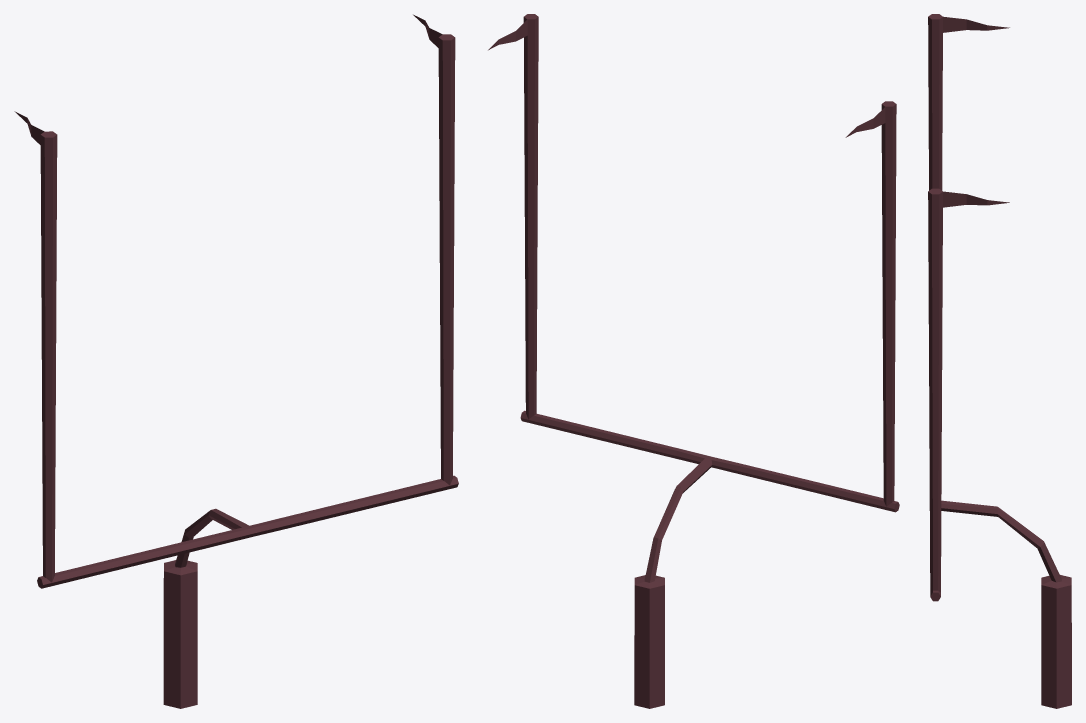
Rendered from american-football-gate.fbx.
The picture shows the model from 3 angles, left to right: view 1: azimuth 30°, elevation 25°; view 2: azimuth 150°, elevation 25°; view 3: azimuth 270°, elevation 25°; orthographic projection. The views are drawn at different scales.
Parts seen in each view (by area): view 1: american-football-gate; view 2: american-football-gate; view 3: american-football-gate.
Boxes of the visible parts, x1,y1,x2,y2 form: american-football-gate: (14, 14, 458, 708); american-football-gate: (488, 14, 899, 708); american-football-gate: (928, 14, 1071, 708).
Size of the model in its own units: 6.06 by 9.24 by 2.02.
